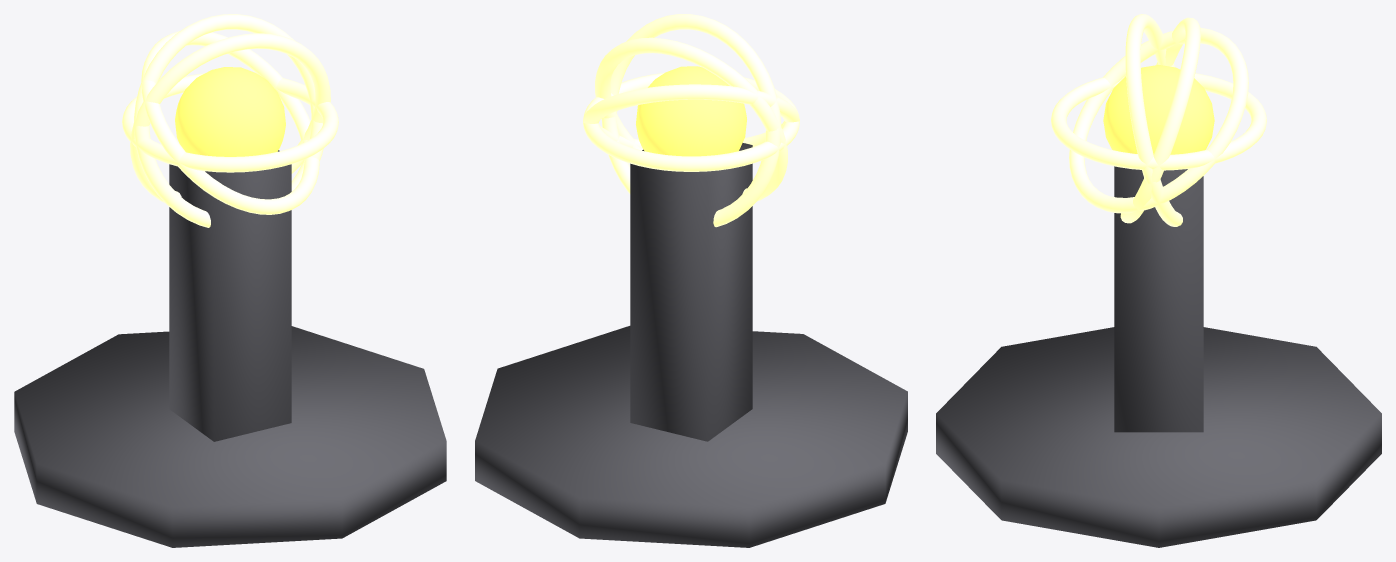
The model's file is structure_heart_crater_monolith.glb.
The picture shows the model from 3 angles, left to right: view 1: azimuth 30°, elevation 25°; view 2: azimuth 150°, elevation 25°; view 3: azimuth 270°, elevation 25°; orthographic projection.
Visible parts, largest first — view 1: Containment_Terrace_Plinth, Heart_Central_Pillar, Primal_Heart_Fire_Core, Heart_Runic_Ring_2, Heart_Runic_Ring_3, Heart_Runic_Ring_1, Heart_Runic_Ring_4; view 2: Containment_Terrace_Plinth, Heart_Central_Pillar, Primal_Heart_Fire_Core, Heart_Runic_Ring_4, Heart_Runic_Ring_3, Heart_Runic_Ring_1, Heart_Runic_Ring_2; view 3: Containment_Terrace_Plinth, Heart_Central_Pillar, Heart_Runic_Ring_2, Primal_Heart_Fire_Core, Heart_Runic_Ring_1, Heart_Runic_Ring_4, Heart_Runic_Ring_3.
Part boxes in pixels (left/top/right/bottom): Containment_Terrace_Plinth: left=14, top=326, right=446, bottom=547; Heart_Central_Pillar: left=169, top=150, right=291, bottom=441; Primal_Heart_Fire_Core: left=175, top=67, right=285, bottom=156; Heart_Runic_Ring_2: left=141, top=31, right=319, bottom=214; Heart_Runic_Ring_3: left=134, top=14, right=323, bottom=227; Heart_Runic_Ring_1: left=122, top=73, right=338, bottom=172; Heart_Runic_Ring_4: left=130, top=33, right=330, bottom=202; Containment_Terrace_Plinth: left=475, top=326, right=907, bottom=547; Heart_Central_Pillar: left=630, top=143, right=752, bottom=441; Primal_Heart_Fire_Core: left=636, top=66, right=746, bottom=156; Heart_Runic_Ring_4: left=601, top=14, right=781, bottom=227; Heart_Runic_Ring_3: left=595, top=37, right=787, bottom=201; Heart_Runic_Ring_1: left=583, top=72, right=799, bottom=171; Heart_Runic_Ring_2: left=583, top=84, right=799, bottom=148; Containment_Terrace_Plinth: left=936, top=327, right=1381, bottom=547; Heart_Central_Pillar: left=1114, top=166, right=1203, bottom=432; Heart_Runic_Ring_2: left=1069, top=27, right=1248, bottom=213; Primal_Heart_Fire_Core: left=1103, top=65, right=1214, bottom=154; Heart_Runic_Ring_1: left=1051, top=73, right=1266, bottom=170; Heart_Runic_Ring_4: left=1125, top=14, right=1182, bottom=226; Heart_Runic_Ring_3: left=1120, top=17, right=1200, bottom=223.
Size of the model in its own units: 20 by 21.21 by 20.
